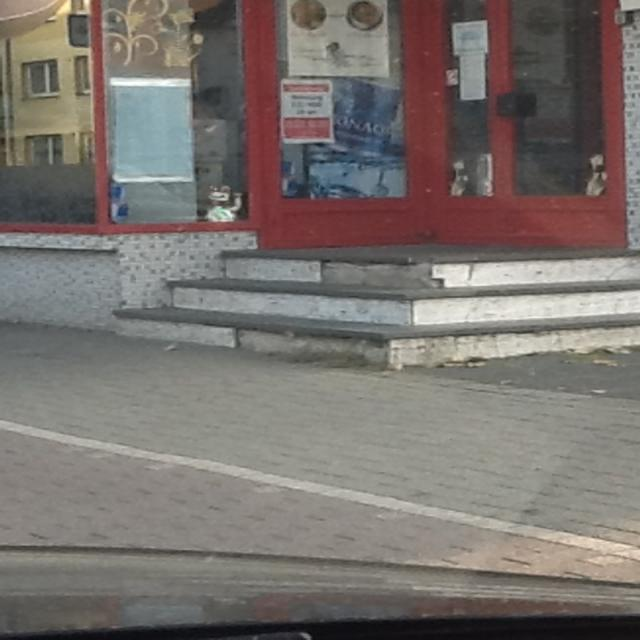AVOID: (95, 248, 640, 364)
